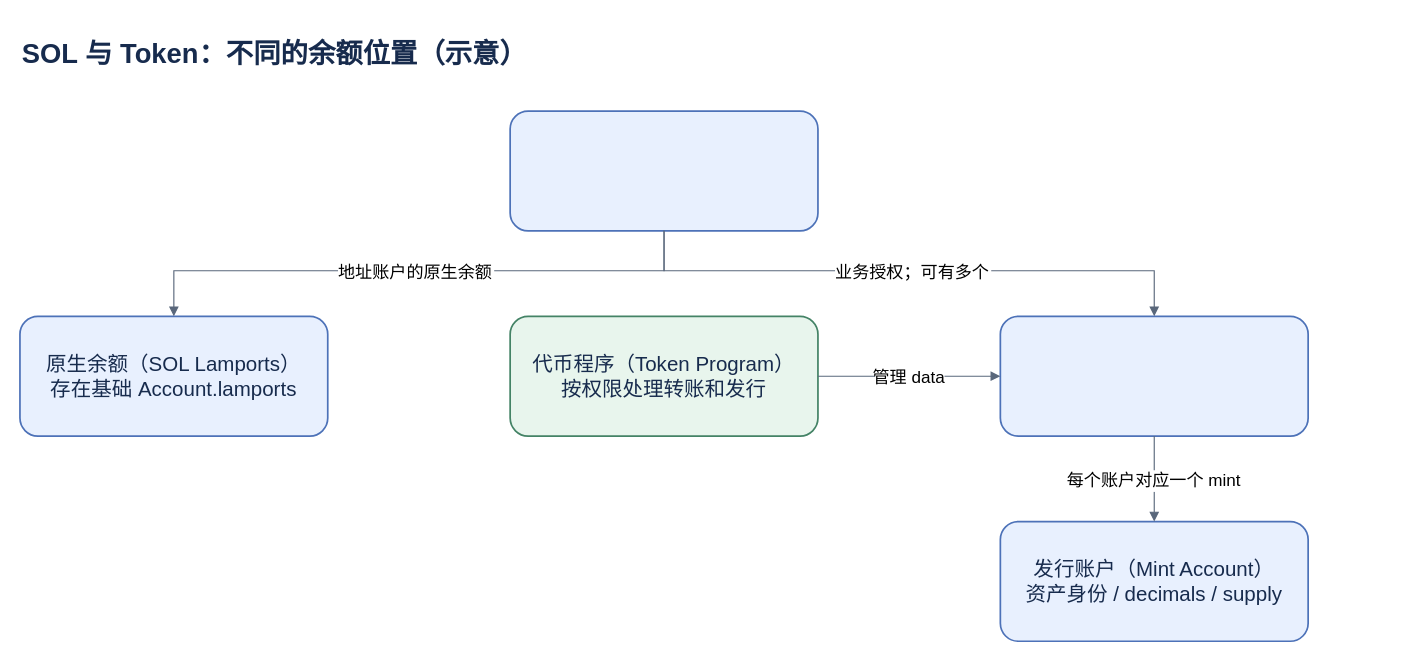
This 1408x661 diagram has some shape labels left out. Here are the shapes that lost their labels. From the top down, the centre of each, then its label:
At point 663,170: "授权地址（Authority Address） 可以管理密钥，也可能是 PDA".
At point 1153,375: "代币账户（Token Account） data：mint / owner / amount".
